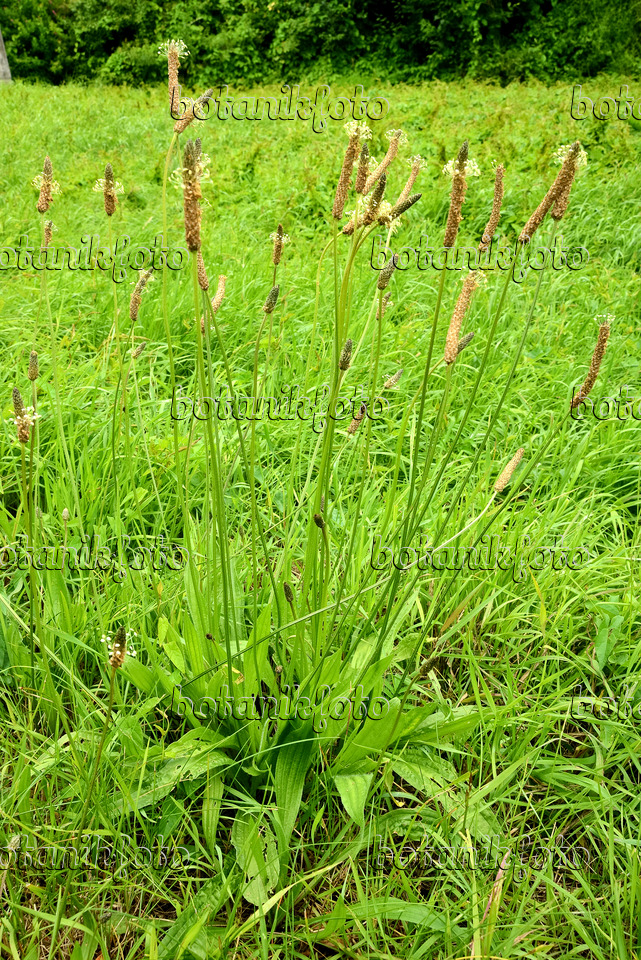buckhorn plantain: (21, 39, 609, 805)
